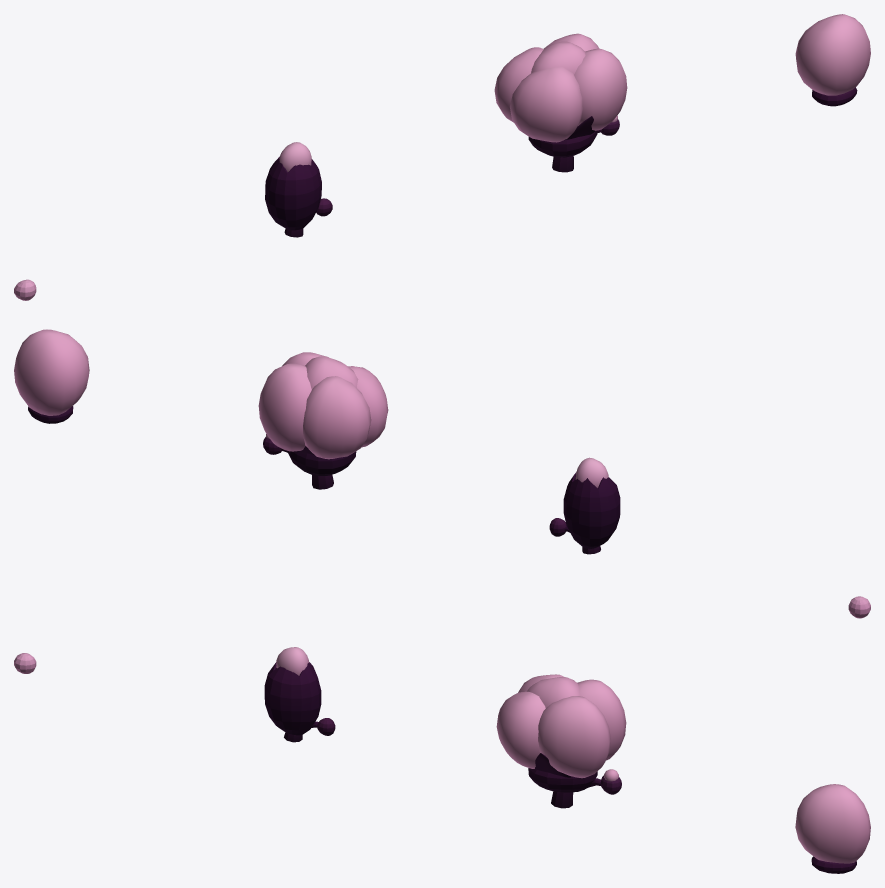
3 views of the same model, one above another, from view 1: azimuth 30°, elevation 25°; view 2: azimuth 150°, elevation 25°; view 3: azimuth 330°, elevation 25° (orthographic).
Visible parts, largest first — view 1: H_3, H_4, H_2; view 2: H_3, H_4, H_2; view 3: H_3, H_4, H_2.
Boxes of the visible parts, bbox=[...] form: H_3: bbox=[494, 33, 627, 172]; H_4: bbox=[795, 14, 870, 106]; H_2: bbox=[265, 142, 332, 237]; H_3: bbox=[258, 352, 388, 489]; H_4: bbox=[14, 329, 89, 423]; H_2: bbox=[549, 457, 620, 554]; H_3: bbox=[496, 674, 626, 808]; H_4: bbox=[795, 784, 870, 873]; H_2: bbox=[264, 647, 335, 742].
Size of the model in its own units: 319 by 45 by 35.73.
